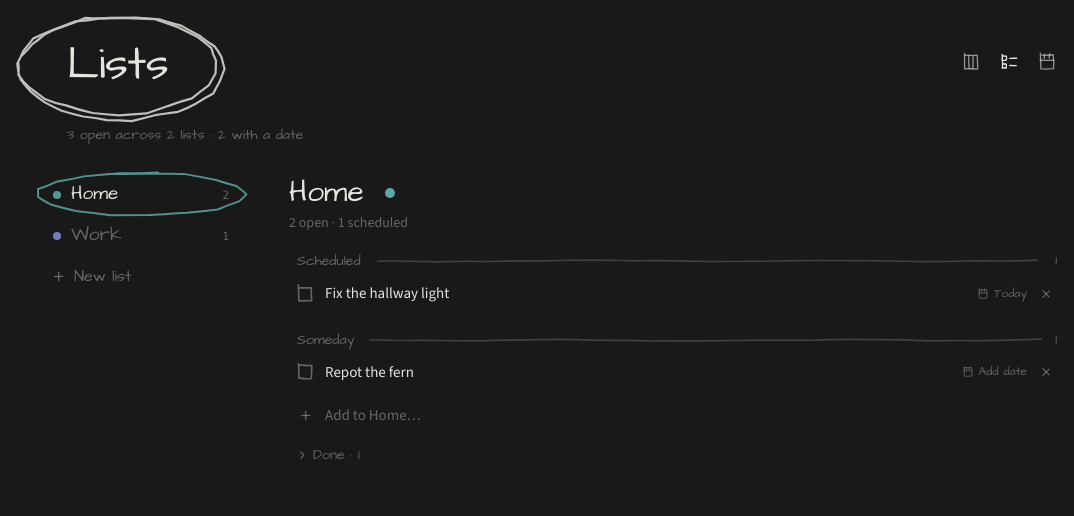
Scenario: lists page › shows one list at a time, split into Scheduled and Someday
Expected: the heading "Home" is shown, 289,175 -> 370,210
Expected: the text "2 open · 1 scheduled" is shown, 289,213 -> 408,232
Click the button "Done · 1": [328, 455] box 289,443 -> 368,468
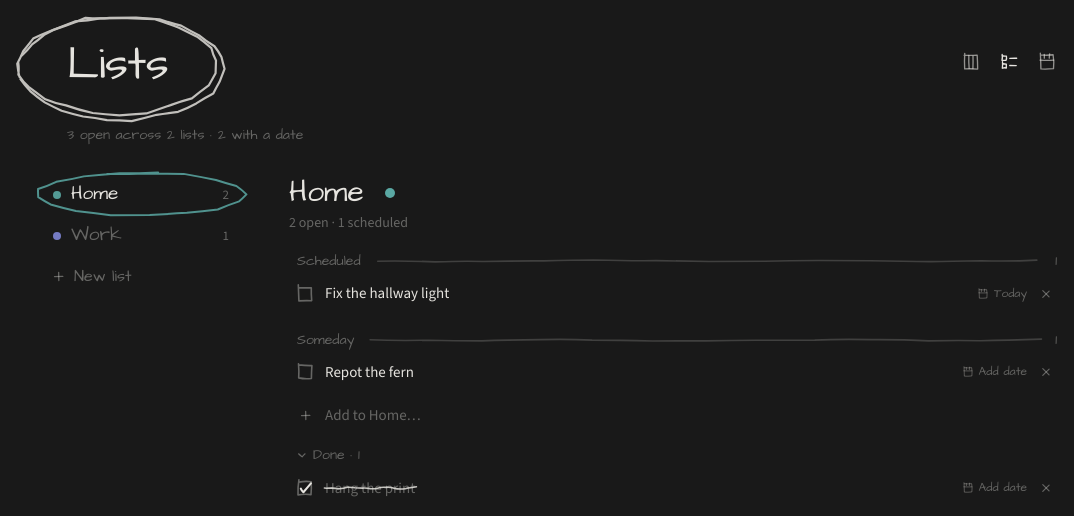
Now the text "Hang the print" is shown, box 325,476 -> 415,499
Click the tab "Work 1": [141, 236] box 41,216 -> 241,255
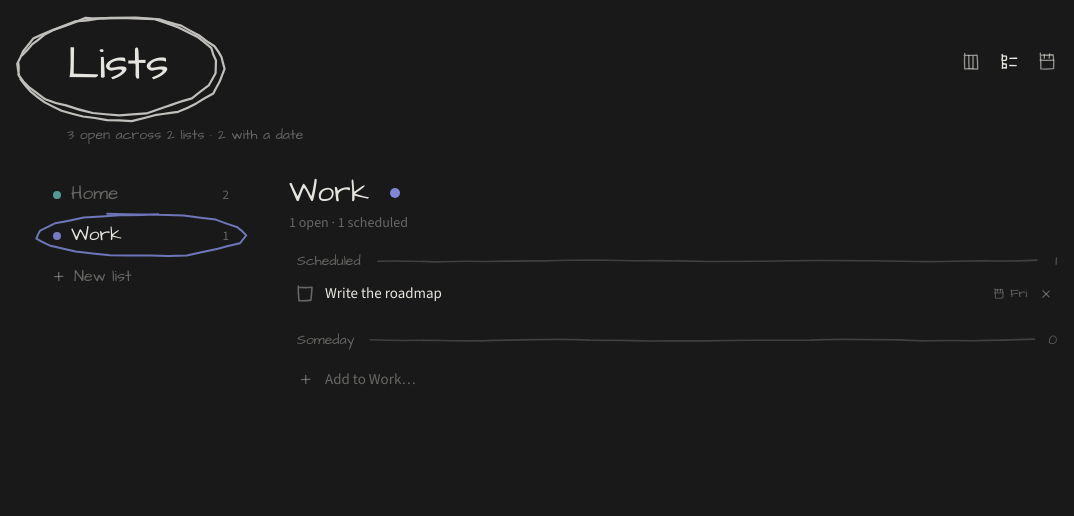
Now the heading "Work" is shown, box 289,175 -> 375,210
Now the text "Write the roadmap" is shown, box 325,282 -> 442,305
